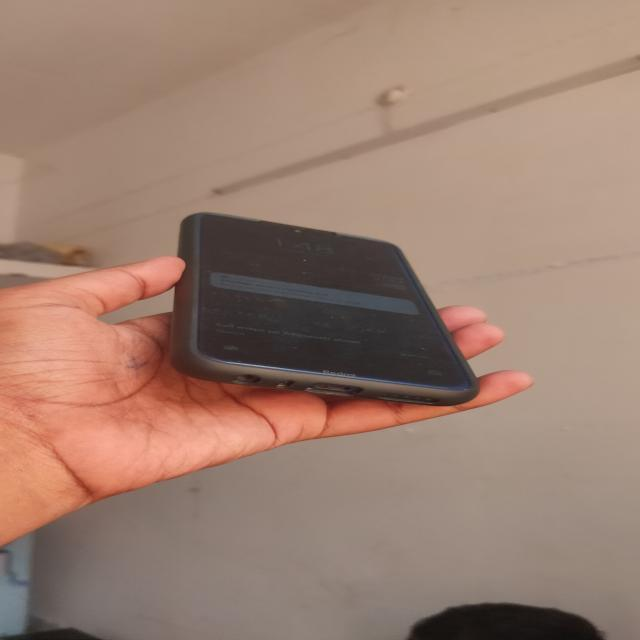Phone: (162, 208, 486, 413)
